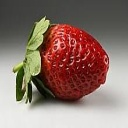strawberry: (19, 20, 110, 102)
